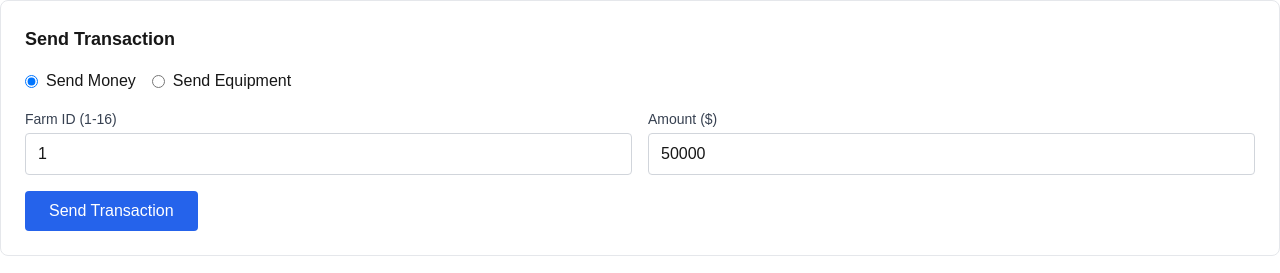
Test: TransactionForm › switches to equipment form
The width and height of the screenshot is (1280, 273).
Step 1. Click the radio button labelled "Send Equipment" → (158, 81), box 152,74 -> 165,88
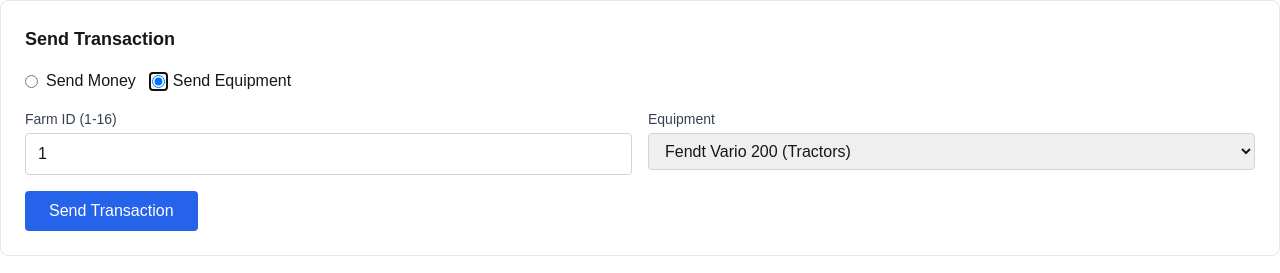
expect the dropdown labelled "Equipment" is shown: met, box 648,133 -> 1255,170
expect the label labelled "Amount ($)" is gone: met
